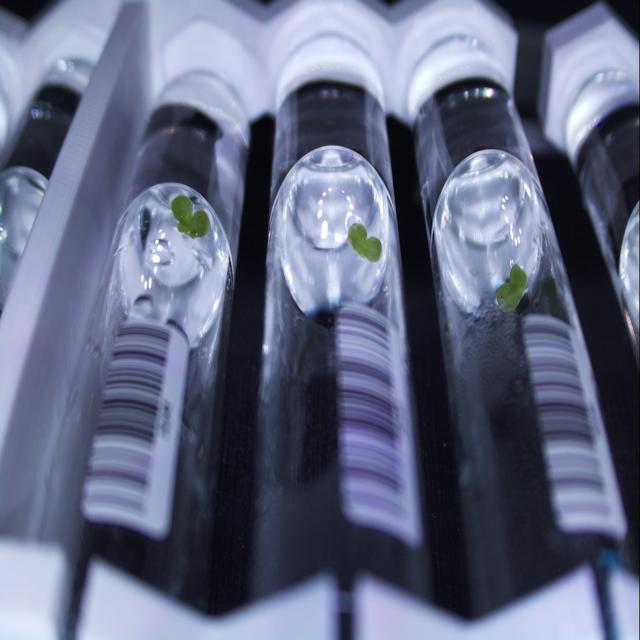Lemna-Gibba: (171, 195, 211, 238), (496, 264, 528, 312), (348, 223, 382, 262)
